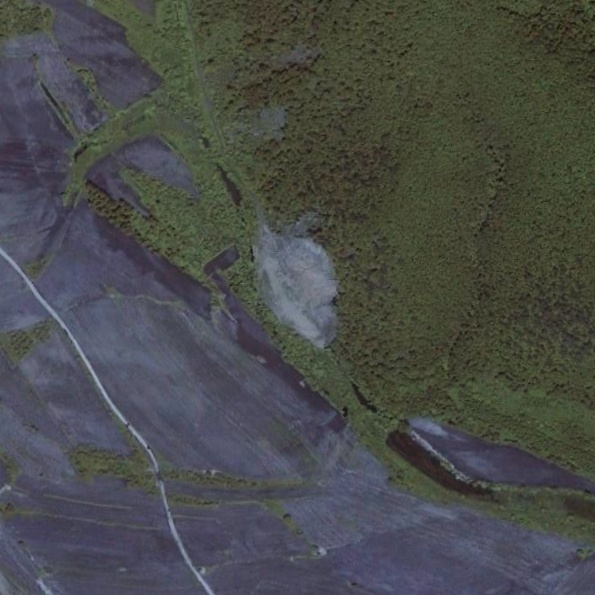slope: (247, 219, 345, 353)
